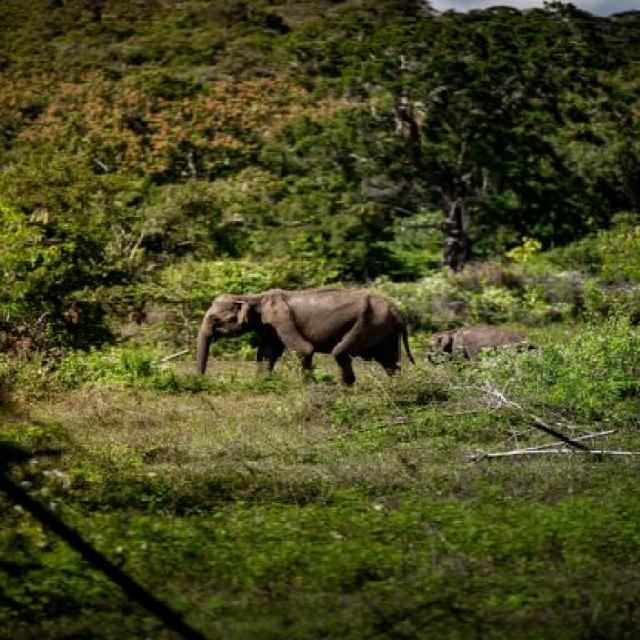Elephant: (188, 280, 426, 394)
